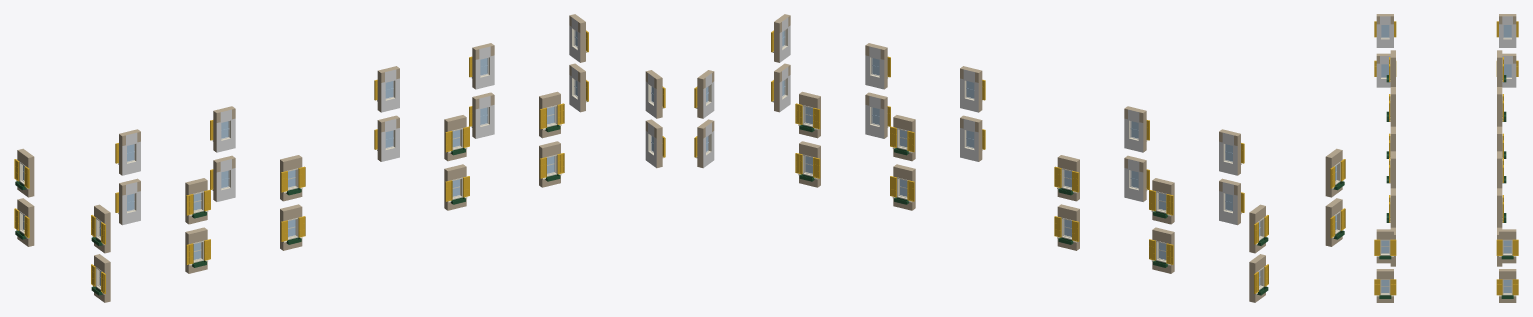
File: SM_Window2.glb
3 views of the same model, side by side, from view 1: azimuth 30°, elevation 25°; view 2: azimuth 150°, elevation 25°; view 3: azimuth 270°, elevation 25° (orthographic). The views are drawn at different scales.
Visible parts, largest first — view 1: GlassPane.022; view 2: GlassPane.022; view 3: GlassPane.022.
Part boxes in pixels (box(x1,y1,x2,y2)): GlassPane.022: box(14, 14, 665, 302); GlassPane.022: box(694, 14, 1345, 302); GlassPane.022: box(1374, 14, 1518, 302).
Bounding box in the file's own units: 59.88 × 9 × 16.54.
